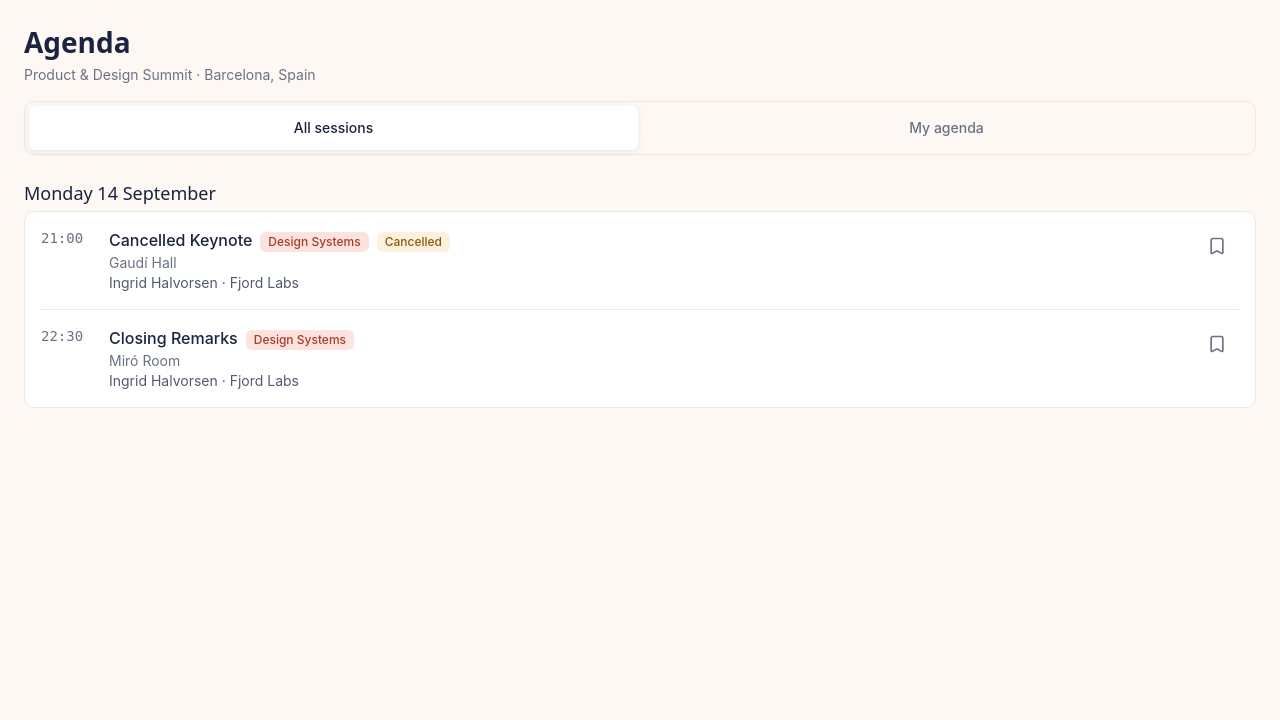
Test: a cancelled session in Agenda and its panel › marks the detail panel, and closes the Q&A composer while leaving questions readable
Click the link "Cancelled Keynote": (181, 240) left=109, top=230, right=252, bottom=250
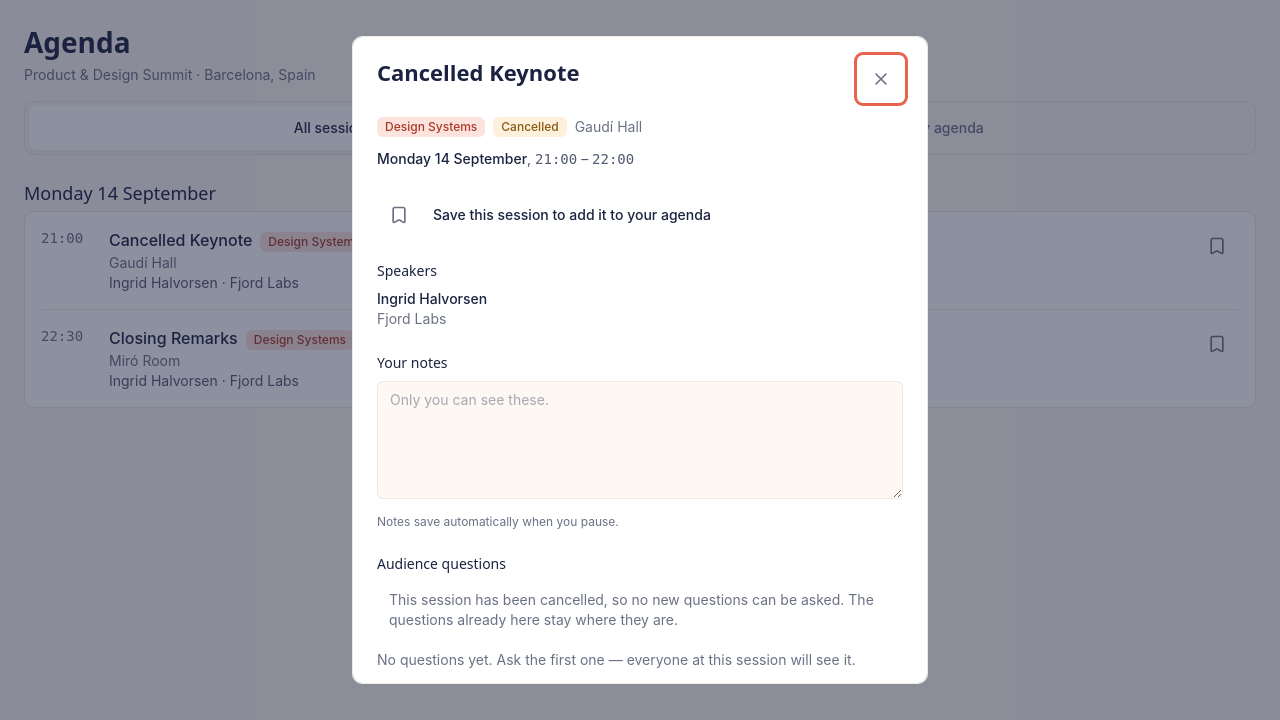
expect the heading "Cancelled Keynote" is shown: met, box left=377, top=57, right=580, bottom=88
expect the text "Cancelled" is shown: met, box left=493, top=117, right=567, bottom=137
expect the text "stay where they are" is shown: met, box left=389, top=591, right=874, bottom=628
